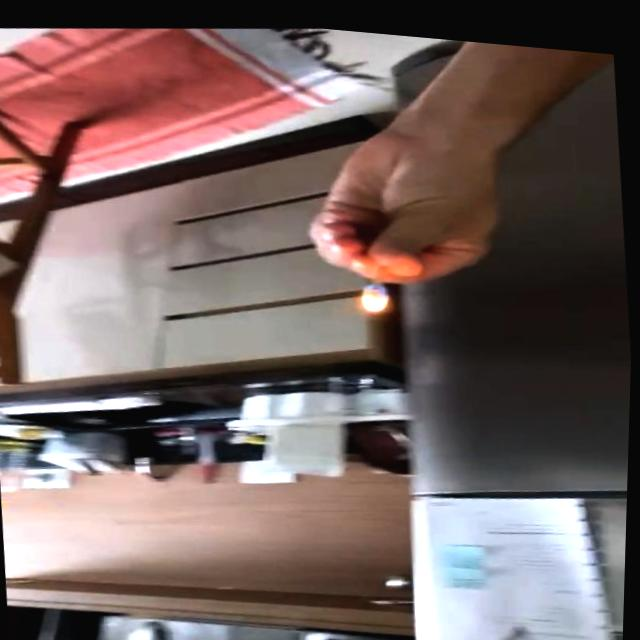Fire: (359, 269, 394, 311)
